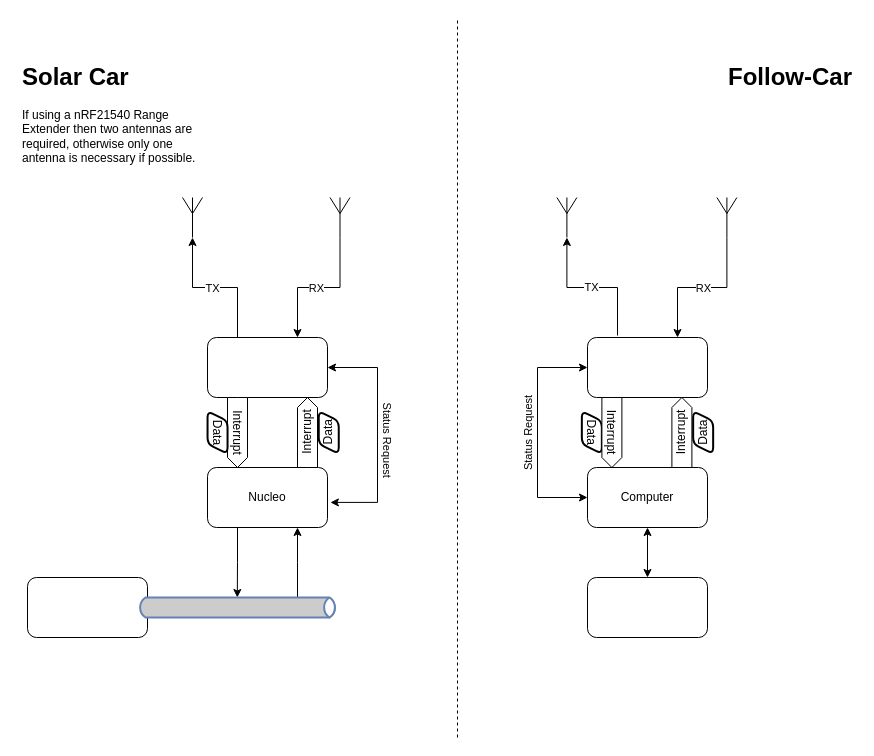
Some shapes in this 874 by 756 pixel diagram are drawn without their labels. Here are the shapes that lost their labels. From the top down, the box of each, then its label:
(206, 336, 328, 398): BLE
(586, 336, 708, 398): USB with BLE
(26, 576, 148, 638): Other Stuff in Solar Car
(136, 596, 338, 618): CAN
(586, 576, 708, 638): Other stuff in Follow-Car
